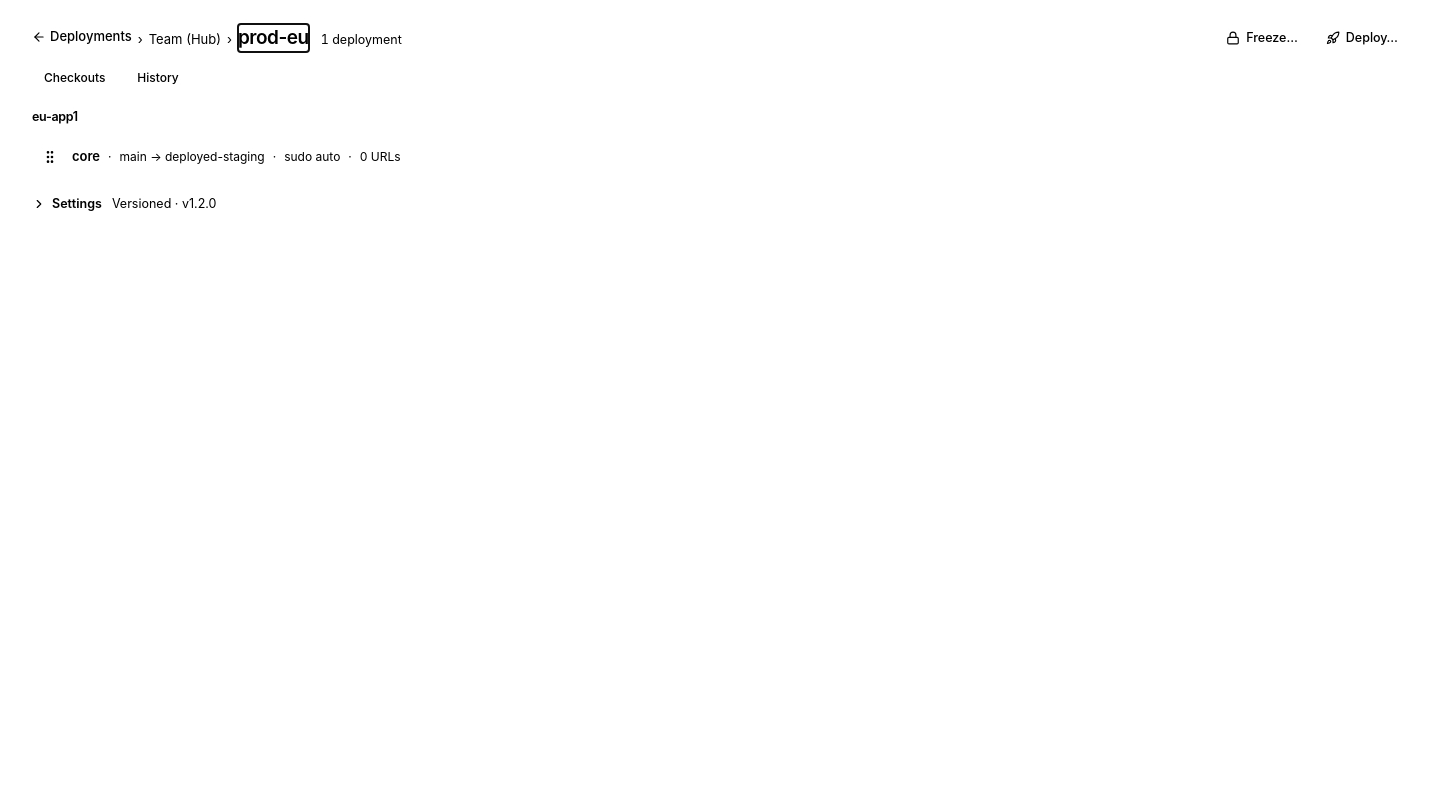
it: team deployments › env_locked error shows the holder
Click the button "Deploy…": {"x": 1362, "y": 38} [1316, 24, 1408, 52]
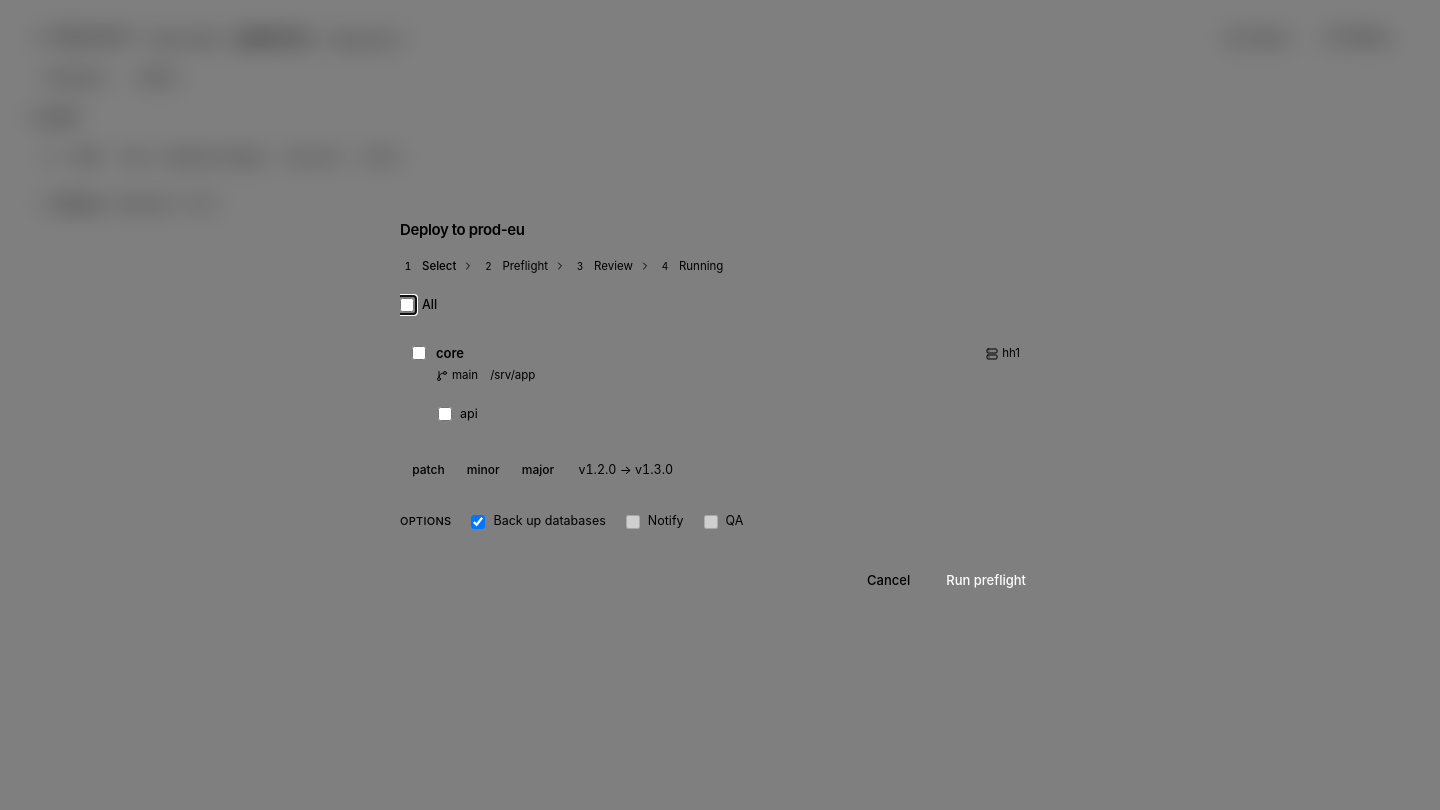
Click the checkbox labelled "api": {"x": 445, "y": 414} [438, 407, 452, 421]
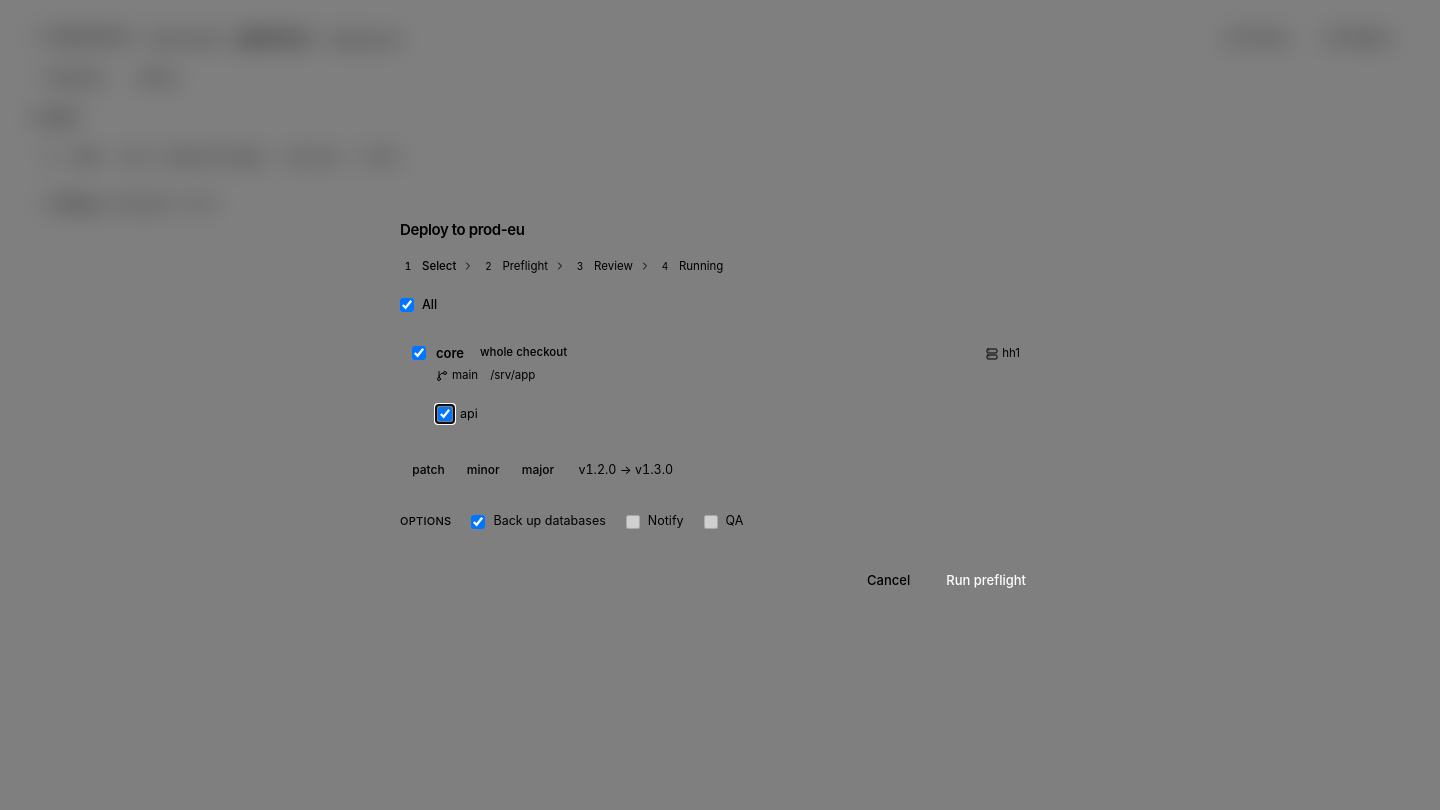
Click the button "Run preflight": {"x": 986, "y": 581} [932, 563, 1040, 599]
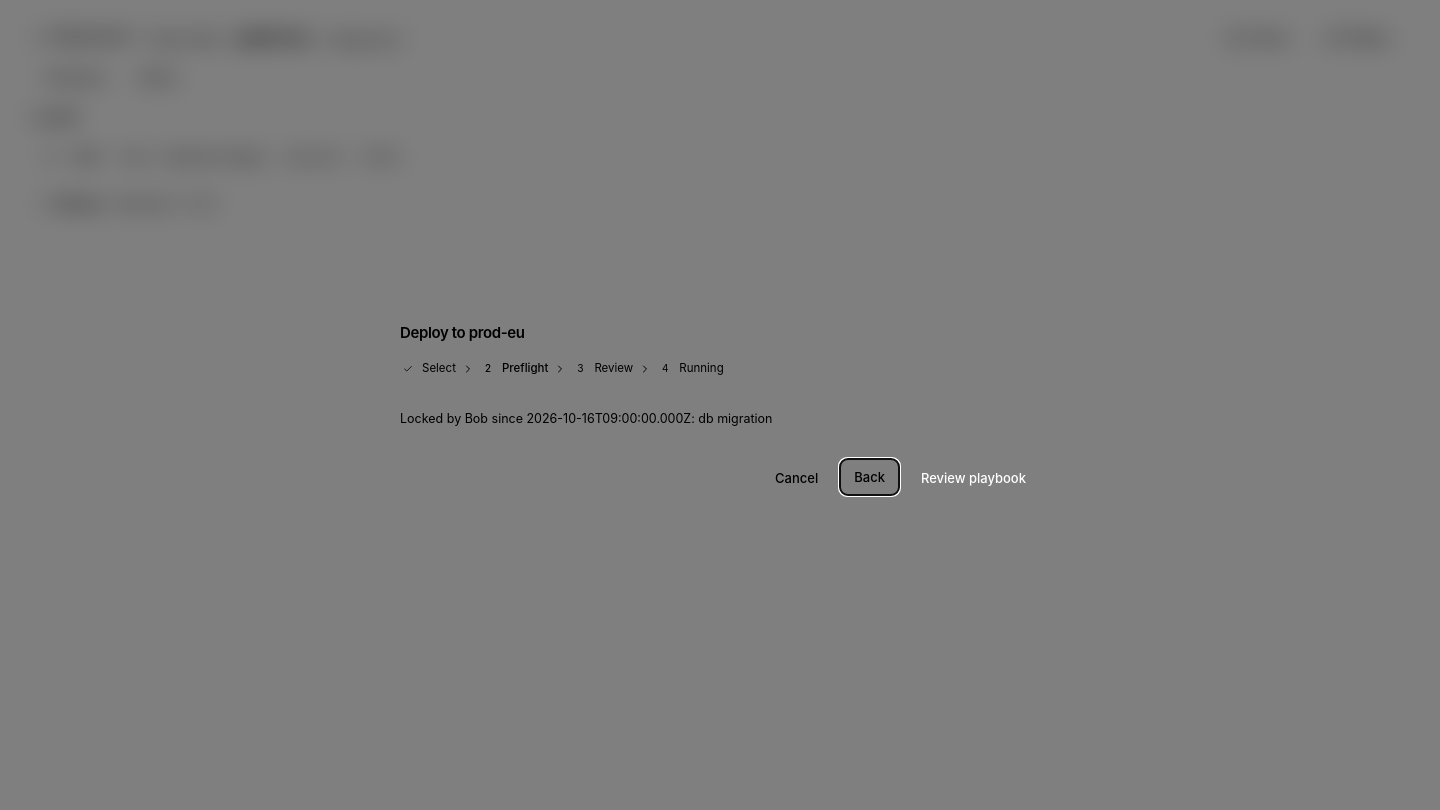
Expected: the text "Locked by Bob since 2026-10-16T09:00:00.000Z: db migration" is shown, [400, 410, 772, 426]
